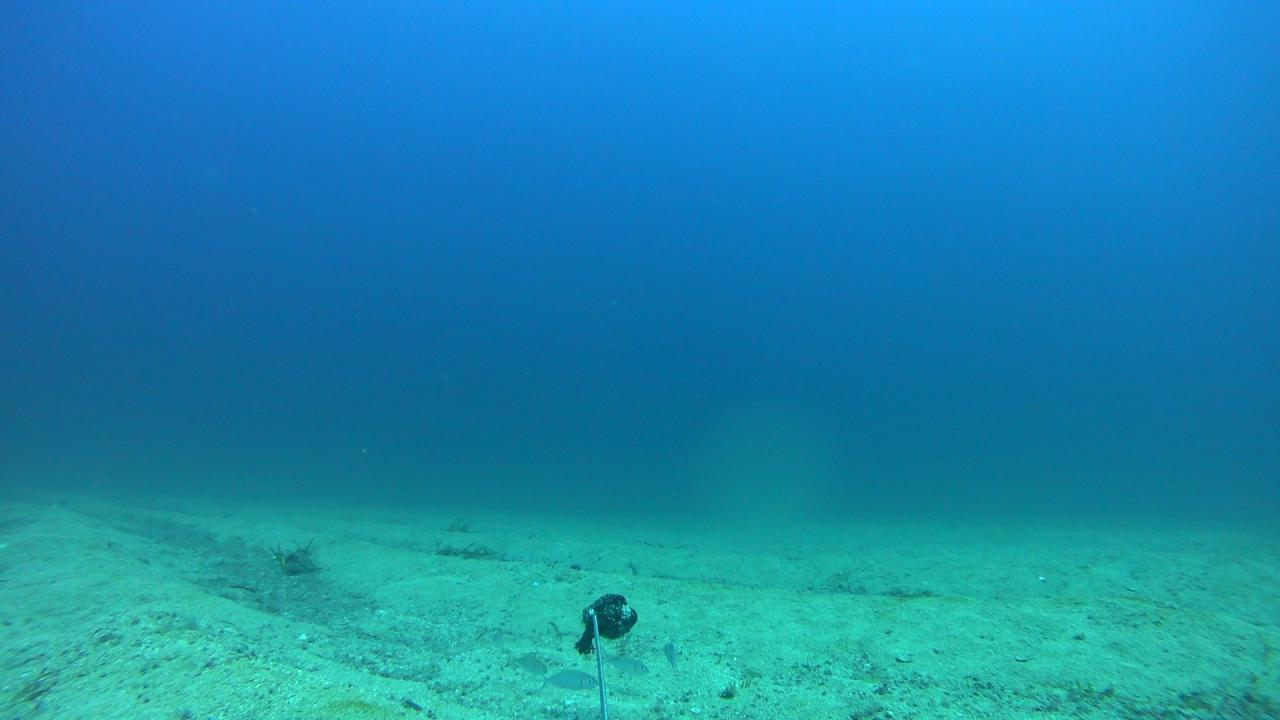pagellus: (542, 669, 597, 691), (602, 650, 647, 674), (505, 650, 547, 673)
